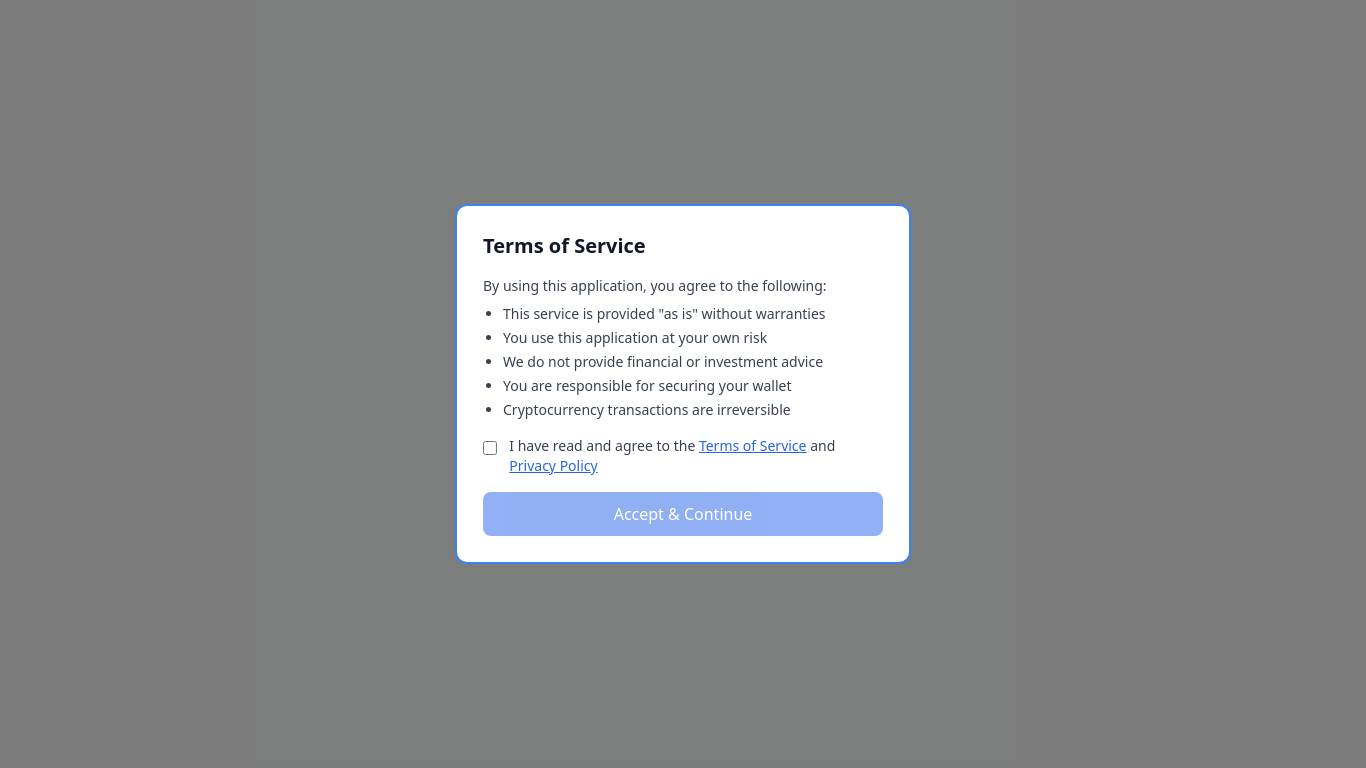
ToSAcceptance › enables accept button when checkbox is checked
The width and height of the screenshot is (1366, 768).
Click the checkbox at [490, 448], box [483, 440, 497, 456]
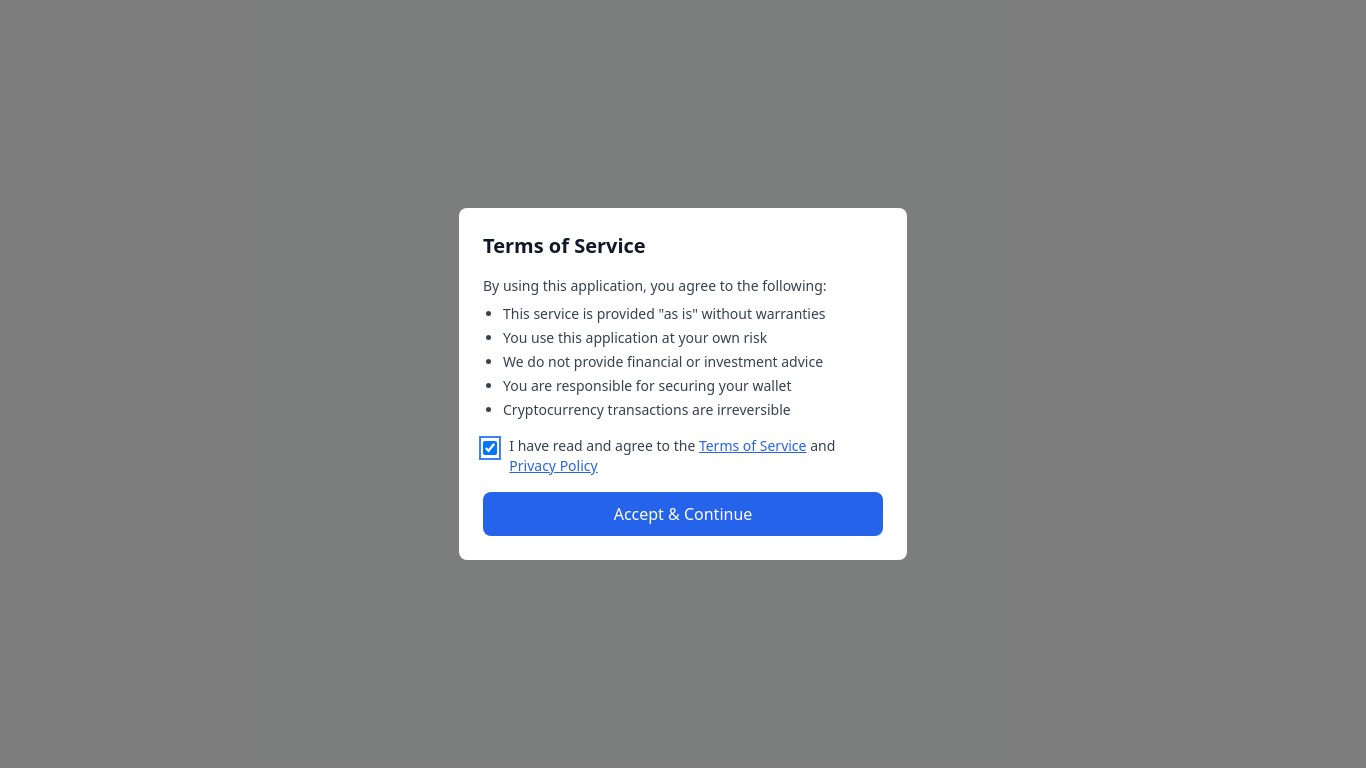
Now the button "Accept & Continue" is enabled, box [483, 492, 883, 536]
